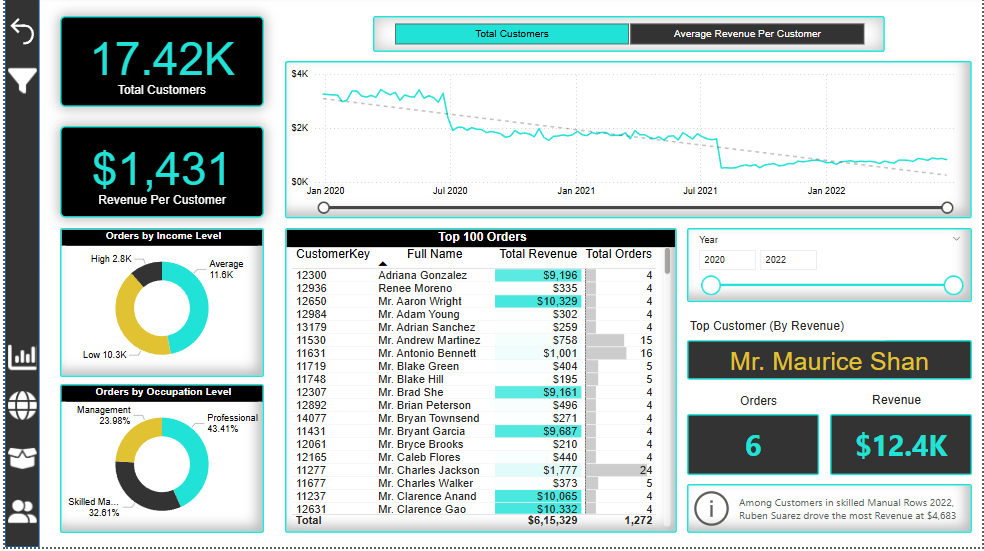

The page's visual inventory and layout, read from the dashboard file:
{"tool":"powerbi","page":{"name":"Customer Detail","canvas":[1280,720],"ordinal":3},"visuals":[{"type":"shape","box":[0,0,45,720],"z":0},{"type":"actionButton","box":[0,449.6,45.6,45.6],"z":0,"group":"g1"},{"type":"lineChart","title":"Weekly Customers","fields":{"Y":["Measure table.Average Revenue Per Customer"],"Category":["Calender Lookup.Date Hierarchy.Start of Year","Calender Lookup.Date Hierarchy.Date","Calender Lookup.Date Hierarchy.Start of Month","Calender Lookup.Date Hierarchy.Start of Week","Calender Lookup.Date Hierarchy.Year"]},"box":[366.5,83.8,899.3,205.5],"z":1000},{"type":"actionButton","box":[0,581.8,45.6,45.6],"z":1000,"group":"g1"},{"type":"actionButton","box":[0,650.9,45.6,45.6],"z":2000,"group":"g1"},{"type":"donutChart","title":"Orders by Occupation Level","fields":{"Y":["Measure table.Total Orders"],"Category":["Customer Lookup.Occupation"]},"box":[72,506.6,267.1,195.1],"z":2000},{"type":"actionButton","box":[0,512.8,45.6,45.6],"z":3000,"group":"g1"},{"type":"donutChart","title":"Orders by Income Level","fields":{"Category":["Customer Lookup.Income Level"],"Y":["Measure table.Total Orders"]},"box":[72,302.4,267.1,195],"z":3000},{"type":"tableEx","title":"Top 100 Orders","fields":{"Values":["Customer Lookup.CustomerKey","Customer Lookup.Full Name","Measure table.Total Revenue","Measure table.Total Orders"]},"box":[366.5,302.4,513.2,399.3],"z":4000},{"type":"card","fields":{"Values":["Customer Lookup.Full Name"]},"box":[892.8,449,373.1,52.4],"z":5000},{"type":"card","fields":{"Values":["Measure table.Total Revenue"]},"box":[1080,545.9,185.9,79.9],"z":6000},{"type":"card","fields":{"Values":["Measure table.Total Orders"]},"box":[892.8,545.9,172.8,79.9],"z":7000},{"type":"textbox","box":[891.5,416.3,260.5,32.7],"z":8000},{"type":"textbox","box":[1099.6,513.2,135,30],"z":9000},{"type":"textbox","box":[919,514.5,135,30],"z":10000},{"type":"slicer","fields":{"Values":["Calender Lookup.Year"]},"box":[892.8,302.4,373.1,96.9],"z":11000},{"type":"actionButton","box":[892.8,637.5,373.1,64.1],"z":12000},{"type":"actionButton","box":[0,20.6,45.6,48.5],"z":13000},{"type":"group","id":"g1","title":"Navigation Buttons","box":[0,449.6,45.6,246.9],"z":14000},{"type":"actionButton","box":[0,83.8,45.8,51.1],"z":15000},{"type":"slicer","fields":{"Values":["Customer Metric Selection.Customer Metric Selection"]},"box":[481.7,24.9,670.3,47.1],"z":16000},{"type":"card","fields":{"Values":["Measure table.Total Customers"]},"box":[72,24.9,267.1,119.1],"z":17000},{"type":"card","fields":{"Values":["Measure table.Average Revenue Per Customer"]},"box":[72,168.9,267.1,120.4],"z":18000}]}

Visuals, with their boxes in screenshot pixels (x1, y1, x2, y2):
shape: [3,0,37,541]
actionButton: [3,337,37,371]
"Weekly Customers" lineChart: [279,61,958,216]
actionButton: [3,437,37,471]
actionButton: [3,489,37,523]
"Orders by Occupation Level" donutChart: [57,380,259,527]
actionButton: [3,385,37,419]
"Orders by Income Level" donutChart: [57,226,259,373]
"Top 100 Orders" tableEx: [279,226,666,527]
card - Customer Lookup.Full Name: [676,336,958,376]
card - Measure table.Total Revenue: [818,409,958,470]
card - Measure table.Total Orders: [676,409,807,470]
textbox: [675,312,872,336]
textbox: [832,385,934,407]
textbox: [696,386,798,408]
slicer - Calender Lookup.Year: [676,226,958,299]
actionButton: [676,479,958,527]
actionButton: [3,13,37,50]
"Navigation Buttons" group: [3,337,37,523]
actionButton: [3,61,37,99]
slicer - Customer Metric Selection.Customer Metric Selection: [366,16,872,52]
card - Measure table.Total Customers: [57,16,259,106]
card - Measure table.Average Revenue Per Customer: [57,125,259,216]
